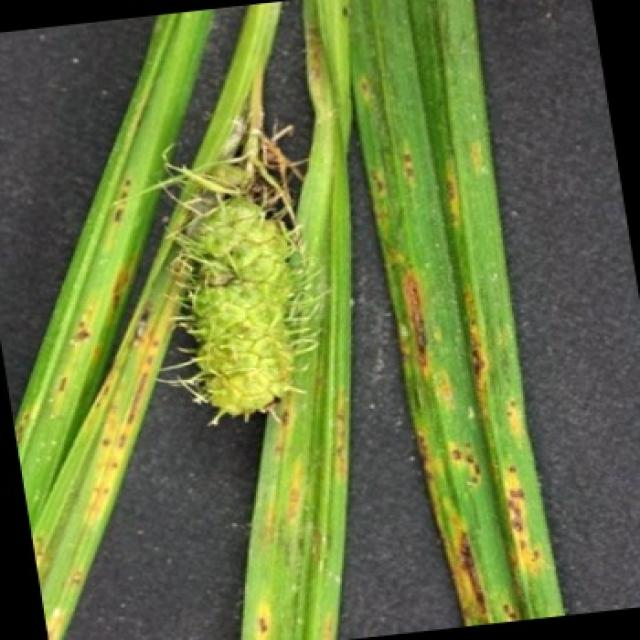Elderberry_rust: (148, 146, 553, 604)
